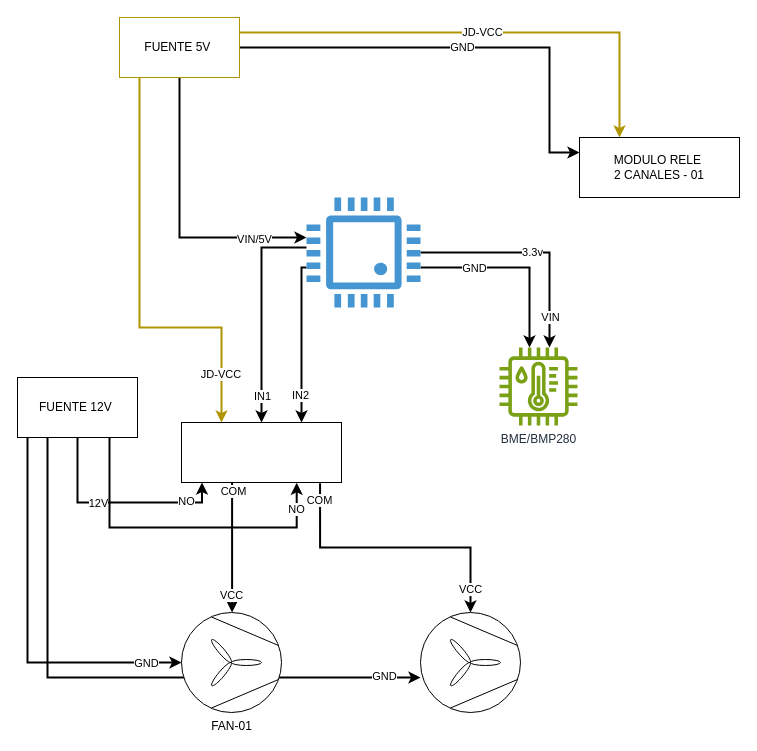
The diagram is 757 pixels wide and 751 high, and some of its shapes have lost their labels. Each missing label, with the box of its shape:
ESP32-S3: (306, 197, 420, 307)
FAN-02: (420, 612, 520, 712)
MODULO RELE 2 CANALES - 02: (180, 422, 342, 482)
